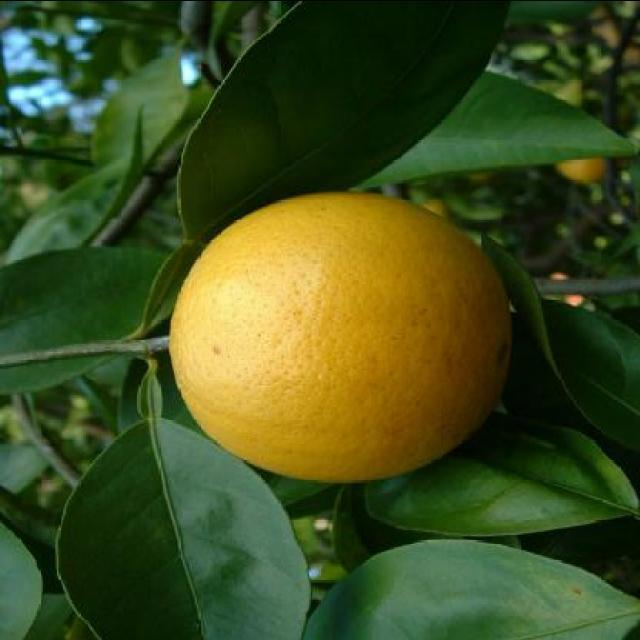Lemon: (164, 190, 518, 482)
